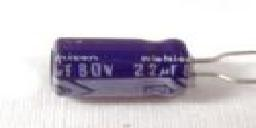Electrolytic-Capacitor: (45, 30, 256, 105)
